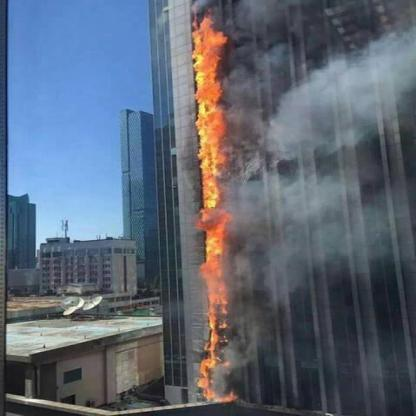fire: (185, 9, 240, 403)
